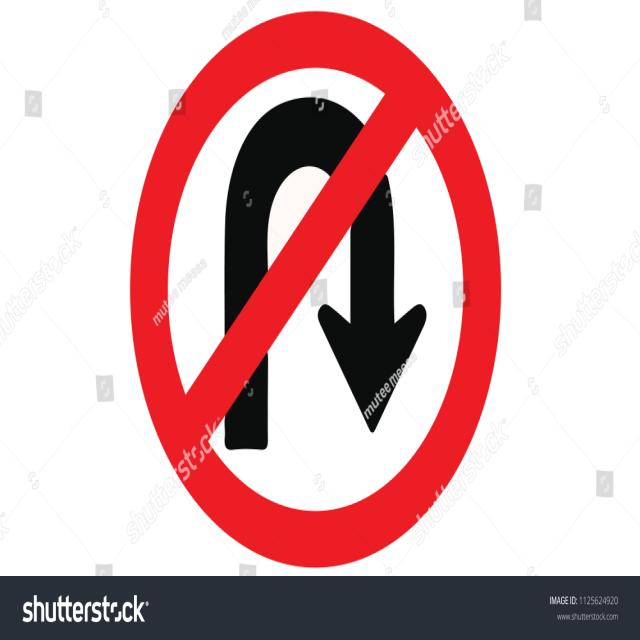Demi-Tour-Interdit: (168, 54, 466, 514)
